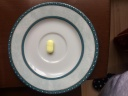Aferin: (46, 39, 54, 54)
